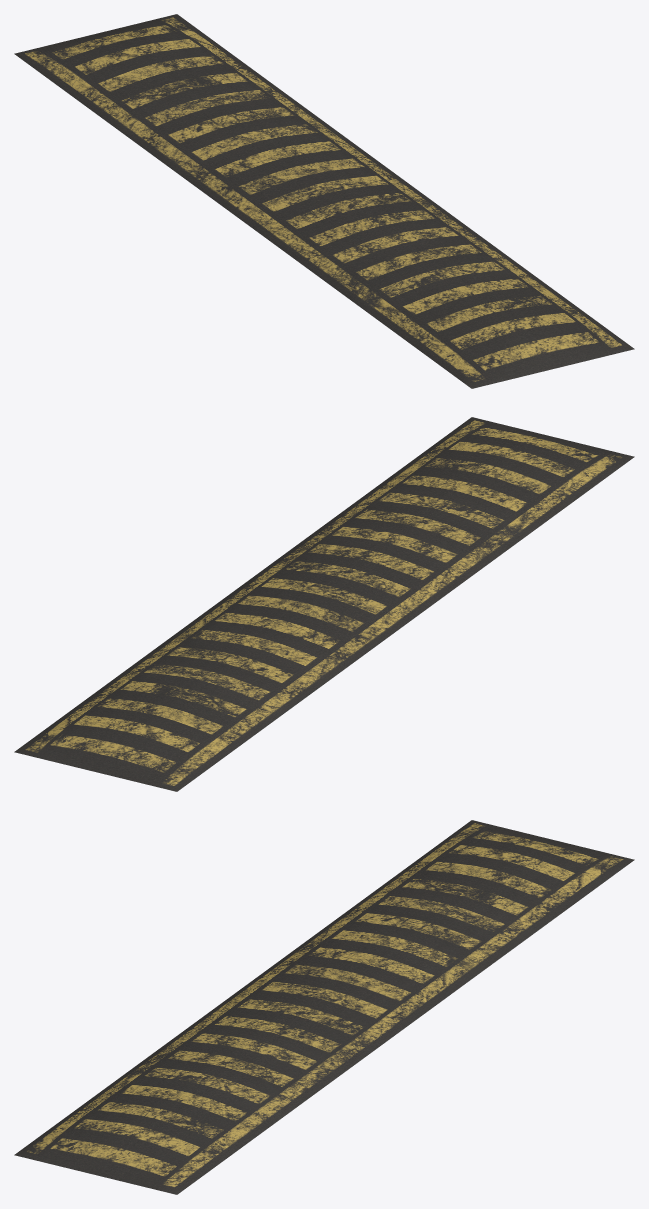
File: SM_SpeedBump.fbx
3 renders of one model, top to bottom at view 1: azimuth 30°, elevation 25°; view 2: azimuth 150°, elevation 25°; view 3: azimuth 330°, elevation 25°, orthographic.
Parts seen in each view (by area): view 1: SM_SpeedBump_LOD0; view 2: SM_SpeedBump_LOD0; view 3: SM_SpeedBump_LOD0.
Boxes of the visible parts, left/top/right/bottom form: SM_SpeedBump_LOD0: left=14, top=14, right=634, bottom=388; SM_SpeedBump_LOD0: left=14, top=417, right=634, bottom=791; SM_SpeedBump_LOD0: left=14, top=820, right=634, bottom=1194.
Size of the model in its own units: 249 by 1211 by 19.96.
1 material, 1 textured.
